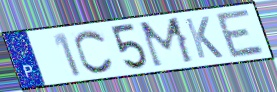1: (53, 31, 84, 78)
5: (109, 22, 150, 72)
C: (73, 29, 116, 75)
E: (213, 7, 268, 60)
K: (183, 15, 226, 60)
M: (137, 15, 197, 70)
